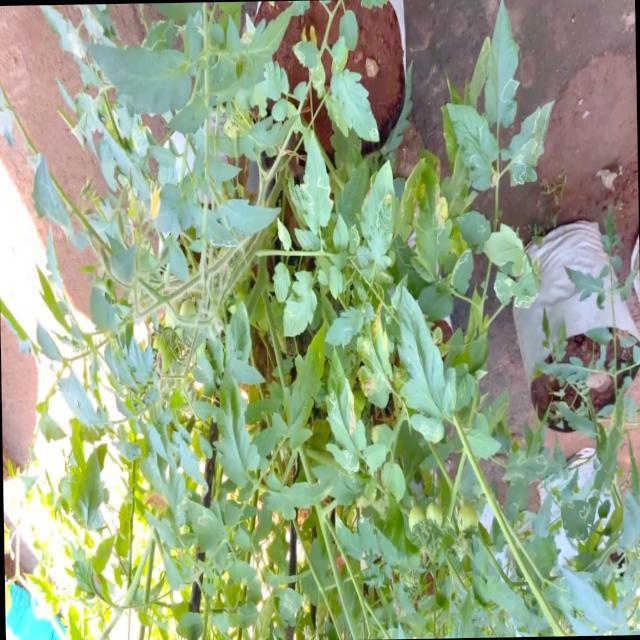Tomato target spot leaf: (396, 284, 456, 444), (409, 156, 454, 283), (324, 344, 366, 472), (354, 282, 393, 408), (482, 0, 520, 129), (446, 102, 500, 191), (508, 99, 556, 188), (592, 384, 626, 492), (330, 68, 379, 142), (300, 129, 334, 235), (484, 255, 540, 309), (393, 156, 427, 242), (239, 114, 297, 162), (185, 496, 228, 554), (282, 268, 317, 336), (501, 448, 562, 487), (163, 448, 192, 528), (310, 464, 364, 506), (366, 193, 394, 271), (191, 208, 240, 250), (330, 120, 362, 181), (114, 107, 150, 157), (467, 35, 491, 107), (323, 305, 363, 346), (456, 210, 490, 256), (139, 17, 181, 54), (560, 498, 594, 540), (450, 247, 474, 295), (276, 586, 305, 618), (292, 40, 320, 70), (66, 18, 84, 58), (390, 237, 412, 269), (311, 58, 326, 99), (347, 223, 360, 254)
